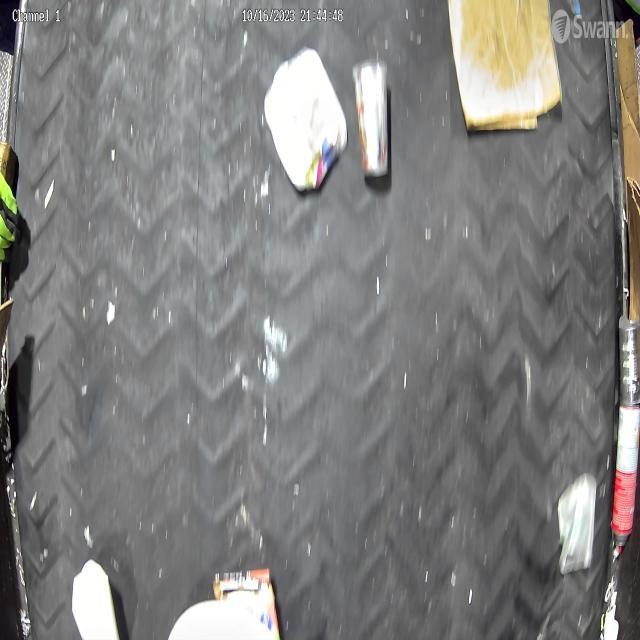can: (618, 317, 640, 407)
